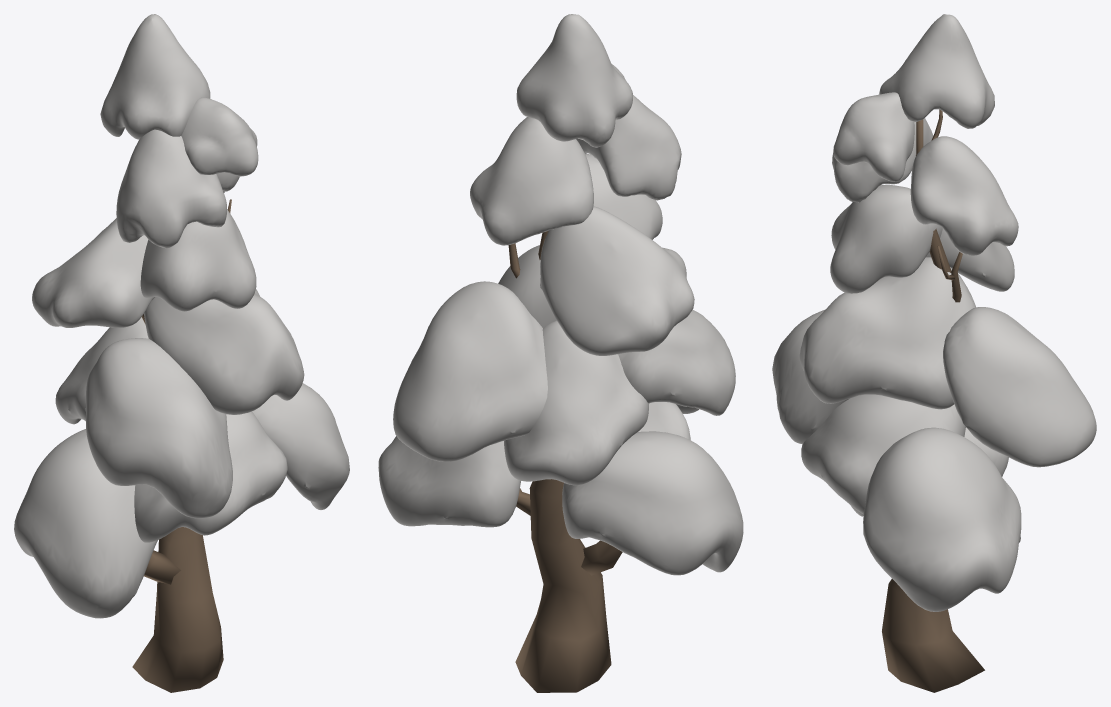
Rendered from Tree_006.fbx.
The picture shows the model from 3 angles, left to right: view 1: azimuth 30°, elevation 25°; view 2: azimuth 150°, elevation 25°; view 3: azimuth 270°, elevation 25°; orthographic projection. The views are drawn at different scales.
Parts seen in each view (by area): view 1: Tree.006; view 2: Tree.006; view 3: Tree.006.
Boxes of the visible parts, x1,y1,x2,y2 form: Tree.006: (14, 14, 349, 692); Tree.006: (378, 14, 743, 692); Tree.006: (772, 14, 1096, 692).
Bounding box in the file's own units: 658 × 1273 × 578.
